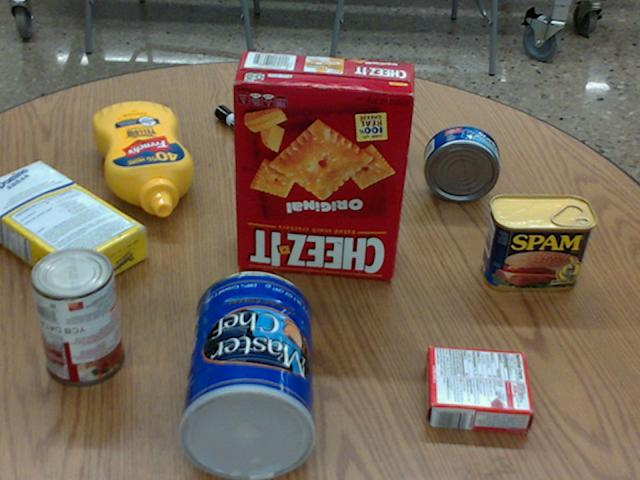cracker_box: (232, 52, 415, 277)
gelatin_box: (424, 346, 534, 432)
large_marker: (214, 105, 278, 155)
master_chef_can: (179, 270, 316, 479)
mug: (298, 62, 386, 151)
mustard_bottle: (92, 101, 192, 216)
potted_meat_can: (481, 194, 596, 291)
sugar_box: (0, 157, 147, 298)
tomato_soup_can: (29, 246, 124, 385)
tuna_fish_can: (423, 125, 498, 201)
